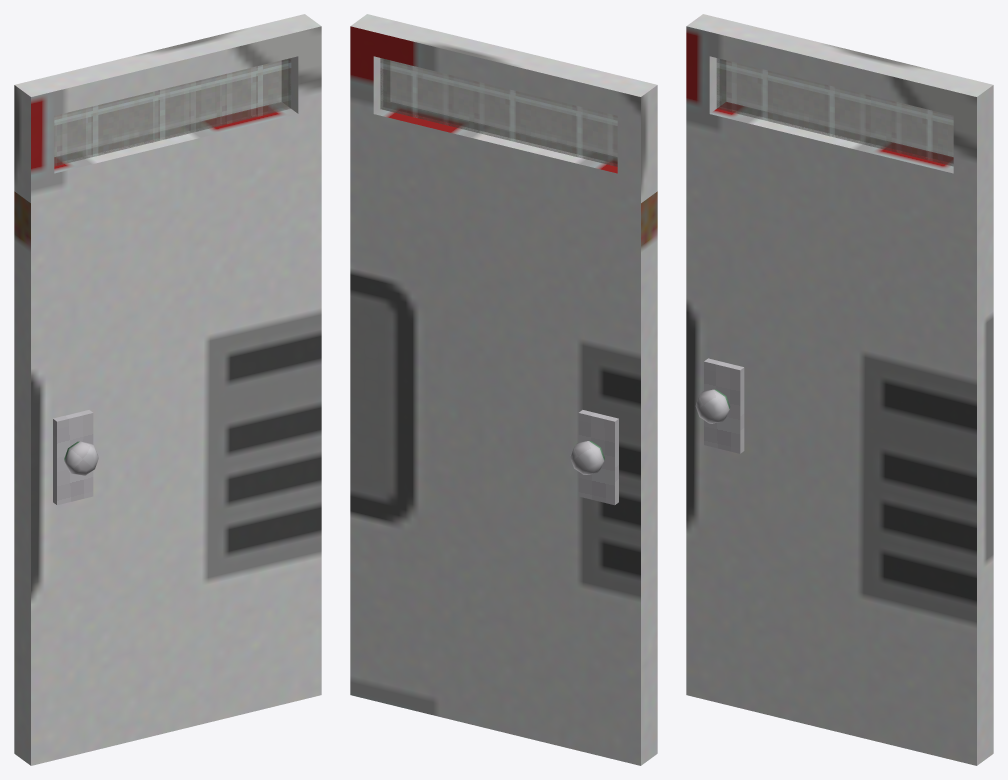
File: Interior_door.fbx
The picture shows the model from 3 angles, left to right: view 1: azimuth 30°, elevation 25°; view 2: azimuth 150°, elevation 25°; view 3: azimuth 330°, elevation 25°; orthographic projection.
Visible parts, largest first — view 1: Door_Mesh, Door_Window, Handle; view 2: Door_Mesh, Door_Window, Handle; view 3: Door_Mesh, Door_Window, Handle.
Boxes of the visible parts, bbox=[...] form: Door_Mesh: bbox=[14, 14, 321, 765]; Door_Window: bbox=[54, 58, 291, 166]; Handle: bbox=[53, 410, 98, 505]; Door_Mesh: bbox=[350, 14, 657, 765]; Door_Window: bbox=[380, 58, 617, 166]; Handle: bbox=[570, 410, 618, 505]; Door_Mesh: bbox=[686, 14, 993, 765]; Door_Window: bbox=[716, 58, 953, 166]; Handle: bbox=[695, 358, 744, 453].
Size of the model in its own units: 100 by 220 by 30.49.
